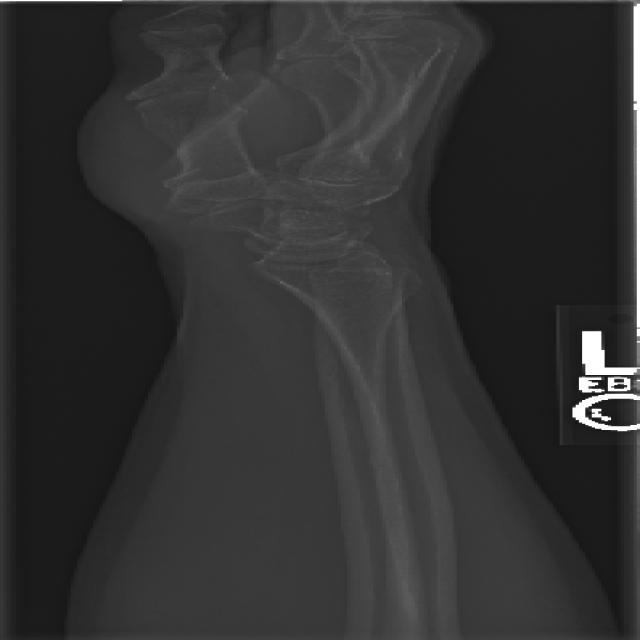fingers positive: (289, 269, 437, 299)
